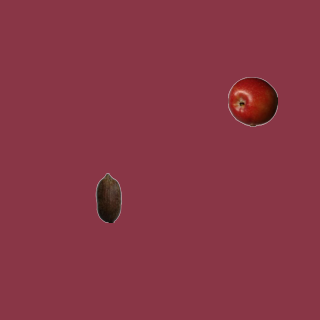Apple Braeburn: (227, 76, 277, 126)
Nut Pecan: (83, 172, 133, 222)
